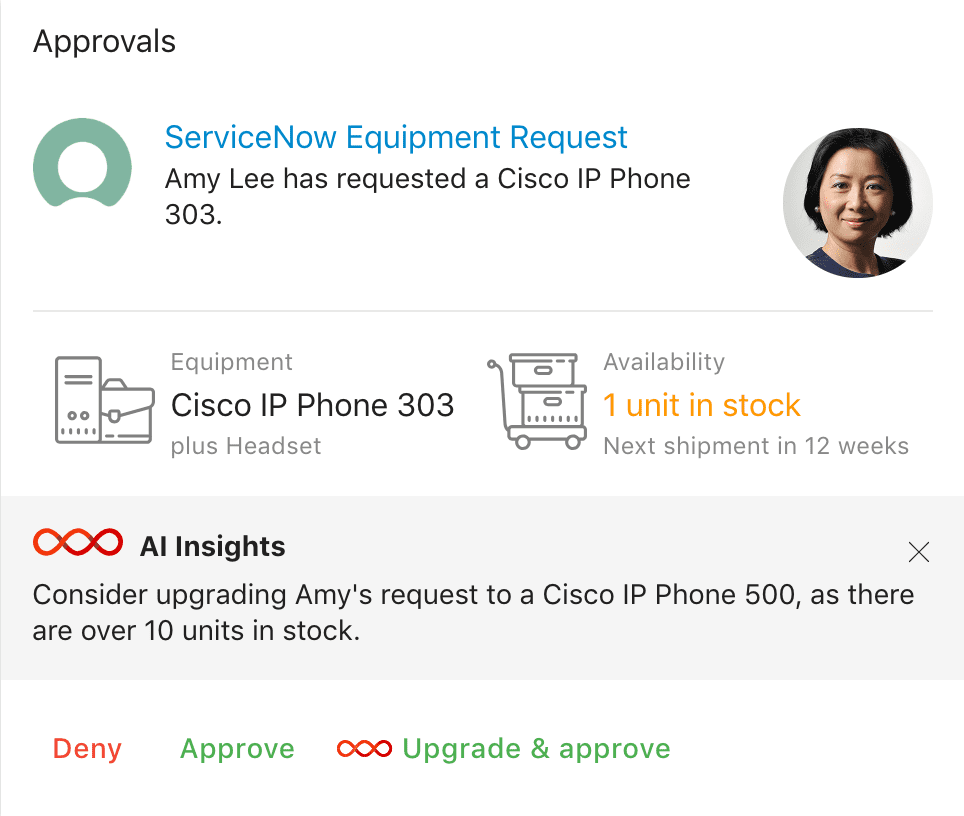image: (762, 109, 948, 282), (17, 111, 145, 227), (41, 343, 158, 467), (482, 343, 590, 463), (23, 524, 126, 562), (328, 728, 395, 767), (899, 533, 934, 566)
textbox: (21, 573, 926, 654), (157, 163, 699, 229), (160, 111, 643, 159), (594, 428, 920, 466), (163, 384, 457, 426), (398, 728, 677, 770), (596, 386, 812, 425), (26, 18, 184, 70), (161, 430, 329, 468), (133, 528, 297, 564), (175, 726, 308, 770), (596, 345, 739, 379), (165, 344, 303, 377), (42, 726, 130, 772)
